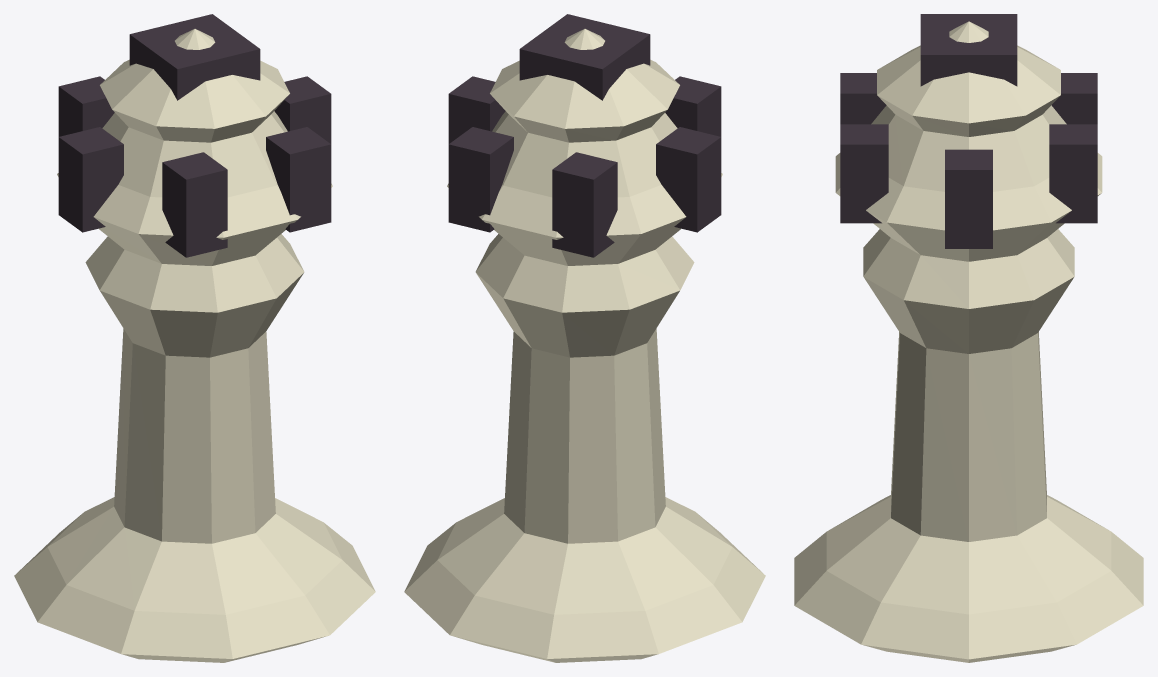
The model's file is queen.obj.
3 renders of one model, left to right at view 1: azimuth 30°, elevation 25°; view 2: azimuth 150°, elevation 25°; view 3: azimuth 270°, elevation 25°, orthographic.
Bounding box in the file's own units: 0.76 × 1.33 × 0.7228.
